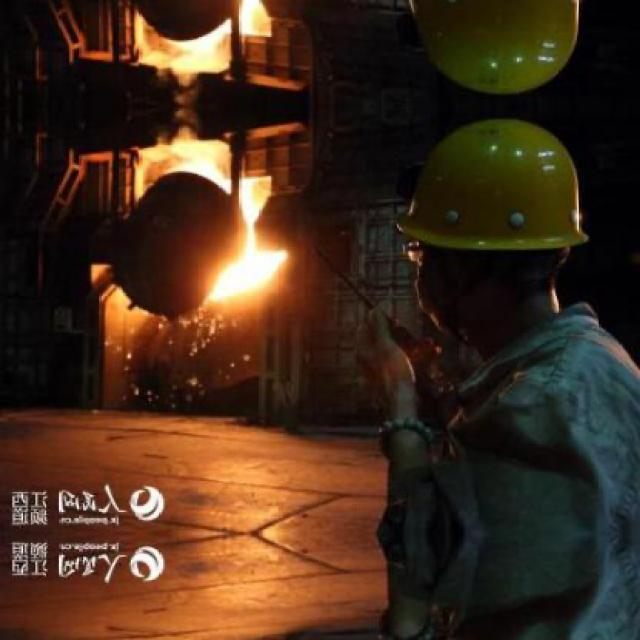helmet: (392, 109, 600, 344), (392, 0, 602, 105)
